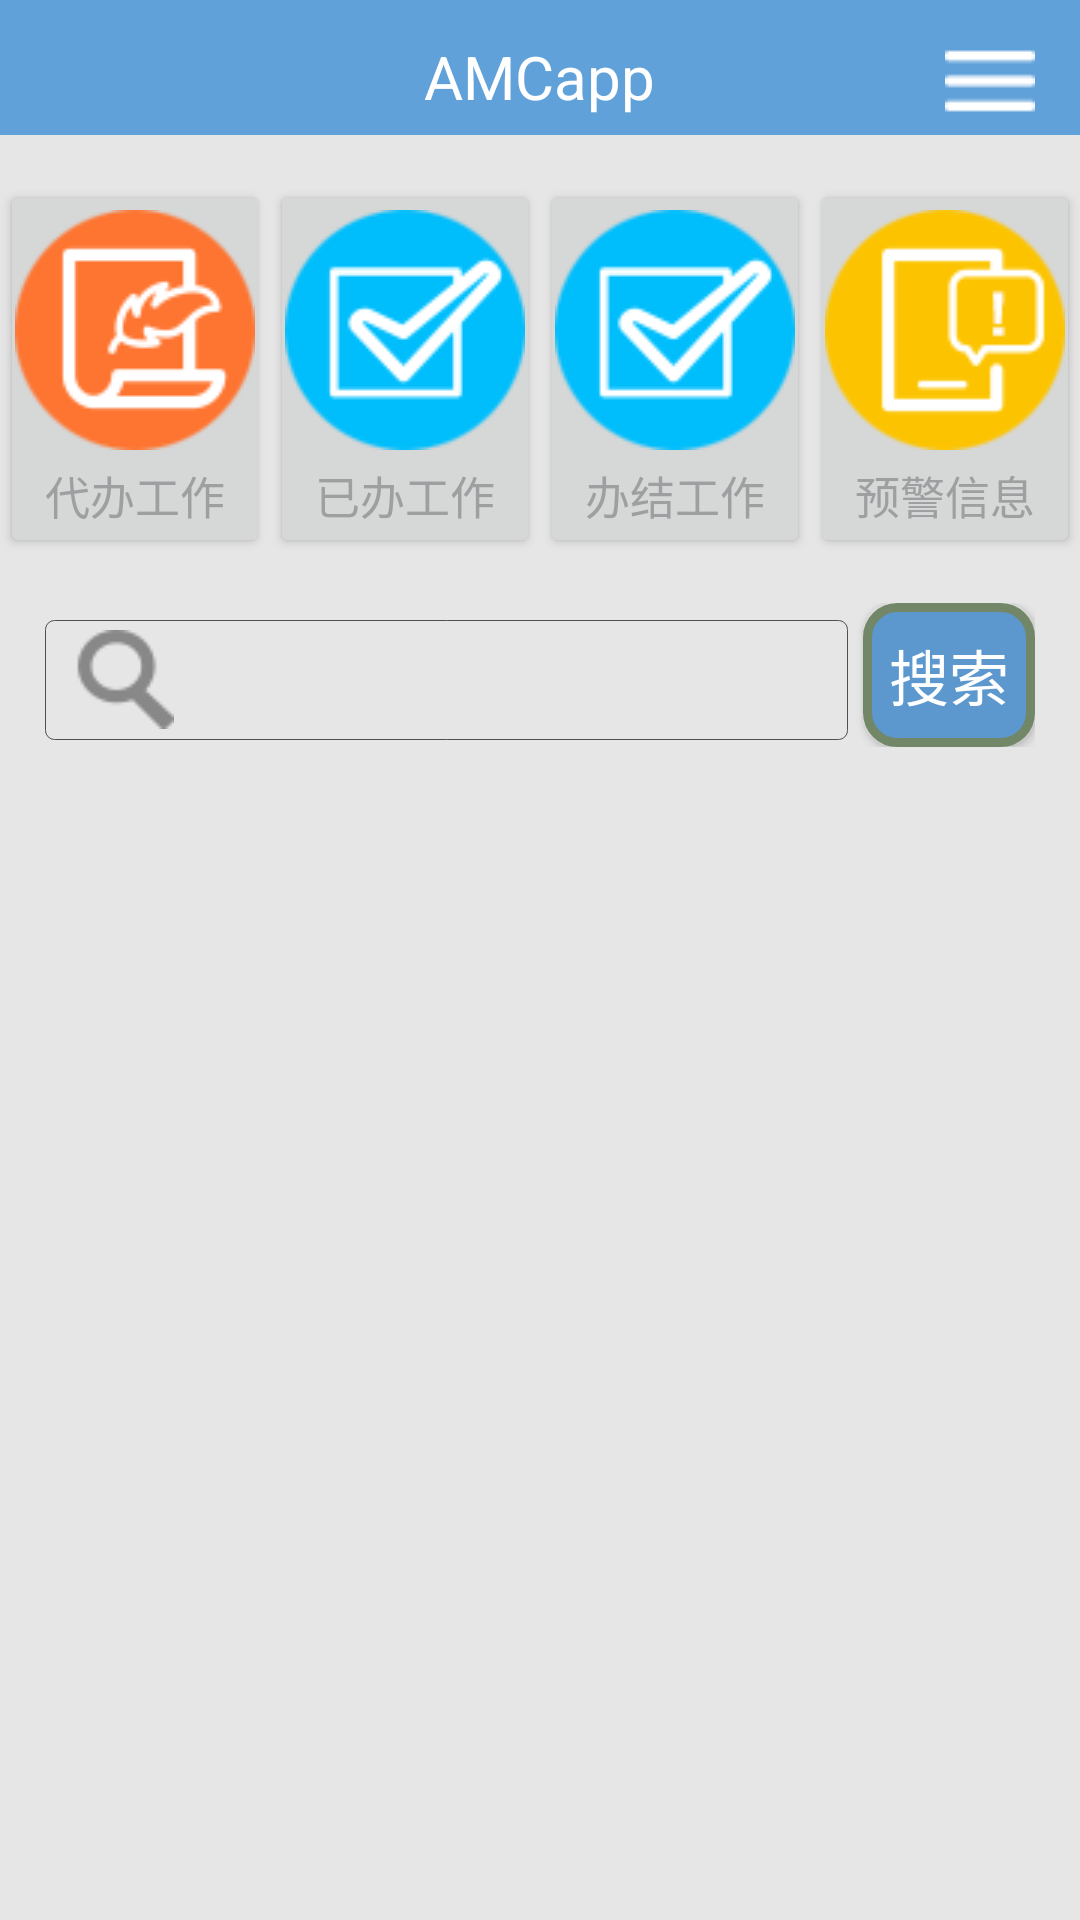

Screen size 1080px x 1920px. Icon name, then its center in pixels as [x,y]:
list: [990,81]
